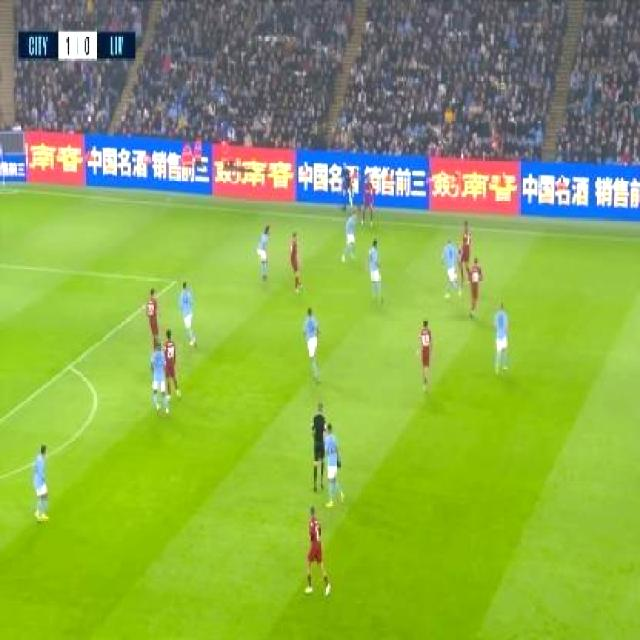bigarea_top_inner: (168, 271, 183, 292)
top_arc_area_intersection: (58, 352, 78, 378)
